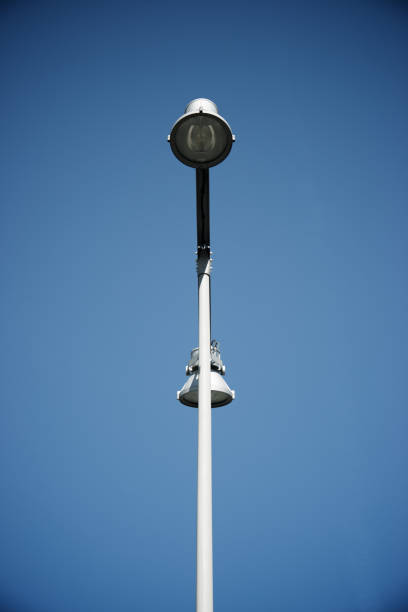light_pole: (194, 167, 216, 612)
